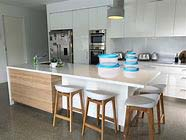copymove: (115, 37, 148, 47)
removal: (84, 85, 120, 140)
spliced: (95, 53, 139, 77)
